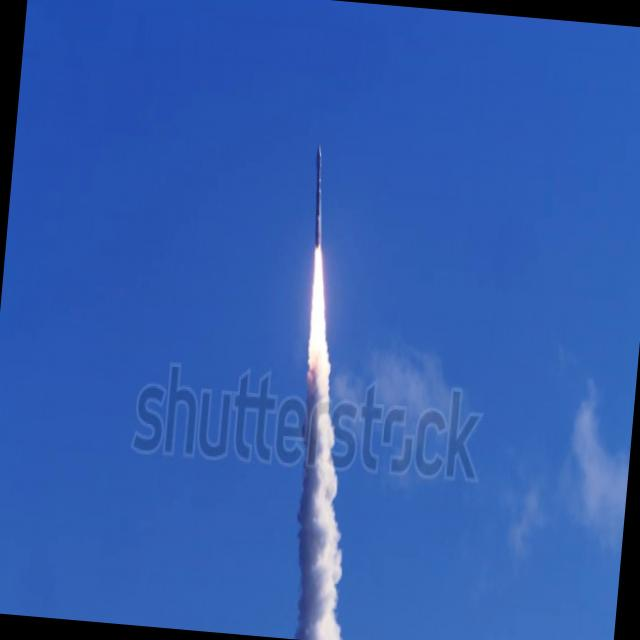rocket: (288, 141, 351, 474)
